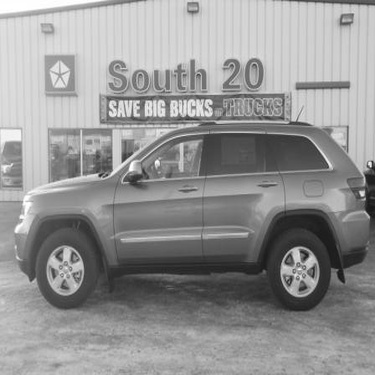car: (1, 111, 362, 310)
